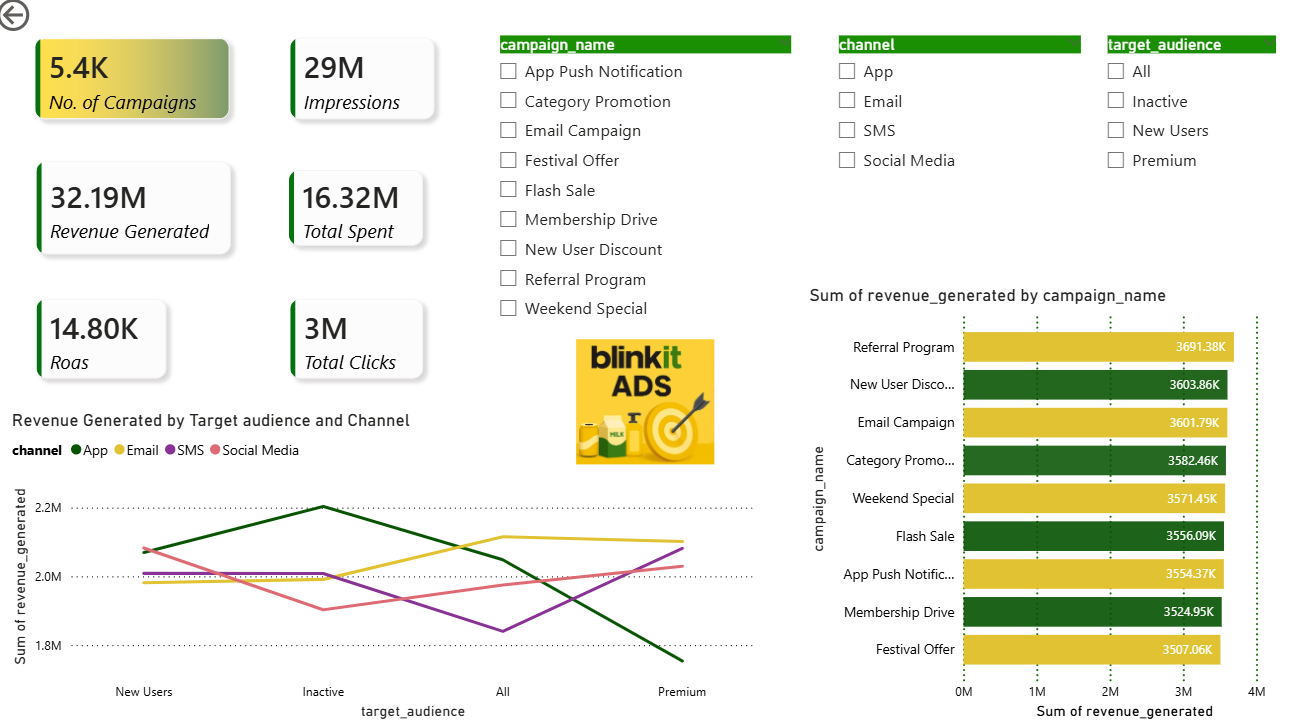

Layout of this report page (visuals, bound fields, positions):
{"tool":"powerbi","page":{"name":"Marketing Performance","canvas":[1280,720],"ordinal":4},"visuals":[{"type":"donutChart","fields":{"Y":["Sum(new inventory.stock_received)","Sum(new inventory.damaged_stock)"]},"box":[858.7,376,280,222.7],"z":0},{"type":"cardVisual","fields":{"Data":["Count(marketing performance.campaign_id)"]},"box":[13.5,19.6,248.2,138.2],"z":1000},{"type":"slicer","fields":{"Values":["marketing performance.campaign_name"]},"box":[484.2,41.6,310.6,291],"z":2000},{"type":"slicer","fields":{"Values":["marketing performance.channel"]},"box":[815.6,41.6,262.9,233.6],"z":3000},{"type":"cardVisual","fields":{"Data":["Sum(marketing performance.impressions)"]},"box":[262.9,19.6,199.3,138.2],"z":4000},{"type":"cardVisual","fields":{"Data":["Sum(marketing performance.revenue_generated)"]},"box":[14.7,140.6,248.2,149.2],"z":5000},{"type":"cardVisual","fields":{"Data":["Sum(marketing performance.spend)"]},"box":[261.7,149.2,189.5,132.1],"z":6000},{"type":"cardVisual","fields":{"Data":["Sum(marketing performance.roas)"]},"box":[14.7,275.1,185.9,137],"z":7000},{"type":"slicer","fields":{"Values":["marketing performance.target_audience"]},"box":[1078.5,41.6,190.8,233.6],"z":8000},{"type":"lineChart","title":"Revenue Generated by Target audience and Channel","fields":{"Category":["marketing performance.target_audience"],"Y":["Sum(marketing performance.revenue_generated)"],"Series":["marketing performance.channel"]},"box":[14.7,412.1,736.1,308.2],"z":9000},{"type":"clusteredBarChart","fields":{"Y":["Sum(marketing performance.revenue_generated)"],"Category":["marketing performance.campaign_name"]},"box":[794.8,289.8,485.5,430.4],"z":10000},{"type":"cardVisual","fields":{"Data":["Sum(marketing performance.clicks)"]},"box":[262.9,275.1,188.3,137],"z":11000},{"type":"image","box":[549.1,343.6,179.8,122.3],"z":12000},{"type":"actionButton","box":[0,0,41.6,52.6],"z":13000}]}

Visuals, with their boxes in screenshot pixels (x1, y1, x2, y2), scaled from the page's 1280x720 canvas onto the 1299x723 screenshot:
donutChart - Sum(new inventory.stock_received) x Sum(new inventory.damaged_stock): 871, 378, 1156, 601
cardVisual - Count(marketing performance.campaign_id): 14, 20, 266, 158
slicer - marketing performance.campaign_name: 491, 42, 807, 334
slicer - marketing performance.channel: 828, 42, 1095, 276
cardVisual - Sum(marketing performance.impressions): 267, 20, 469, 158
cardVisual - Sum(marketing performance.revenue_generated): 15, 141, 267, 291
cardVisual - Sum(marketing performance.spend): 266, 150, 458, 282
cardVisual - Sum(marketing performance.roas): 15, 276, 204, 414
slicer - marketing performance.target_audience: 1095, 42, 1288, 276
"Revenue Generated by Target audience and Channel" lineChart: 15, 414, 762, 722
clusteredBarChart - Sum(marketing performance.revenue_generated) x marketing performance.campaign_name: 807, 291, 1298, 722
cardVisual - Sum(marketing performance.clicks): 267, 276, 458, 414
image: 557, 345, 740, 468
actionButton: 0, 0, 42, 53
